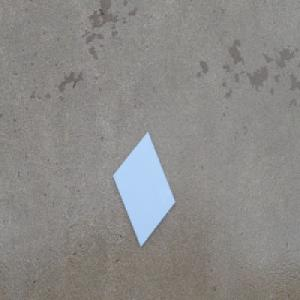PaintChip: (111, 130, 176, 249)
